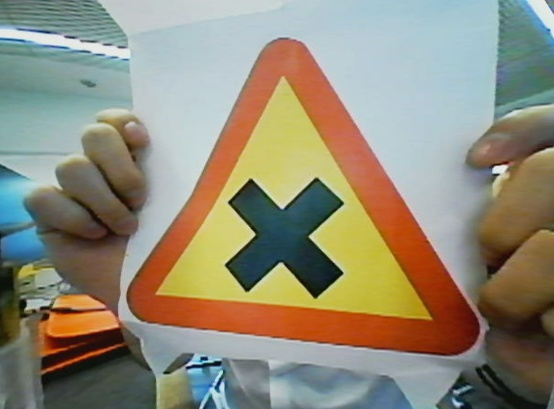junction: (123, 38, 478, 362)
